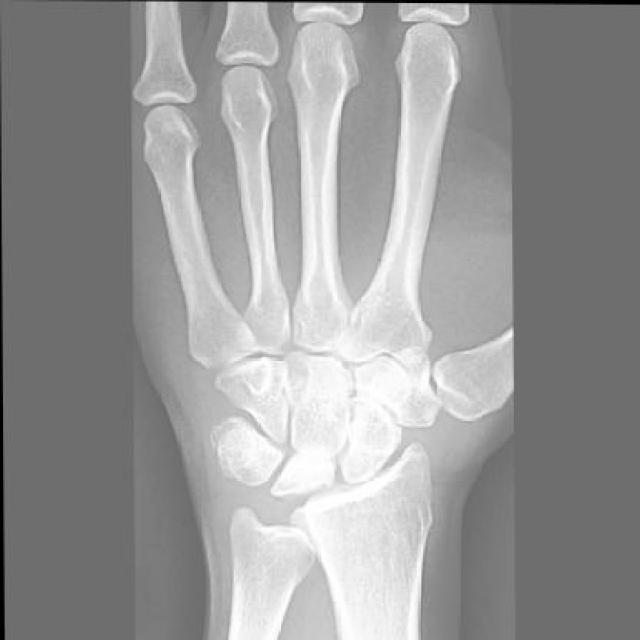Fracture: (282, 451, 336, 481)
